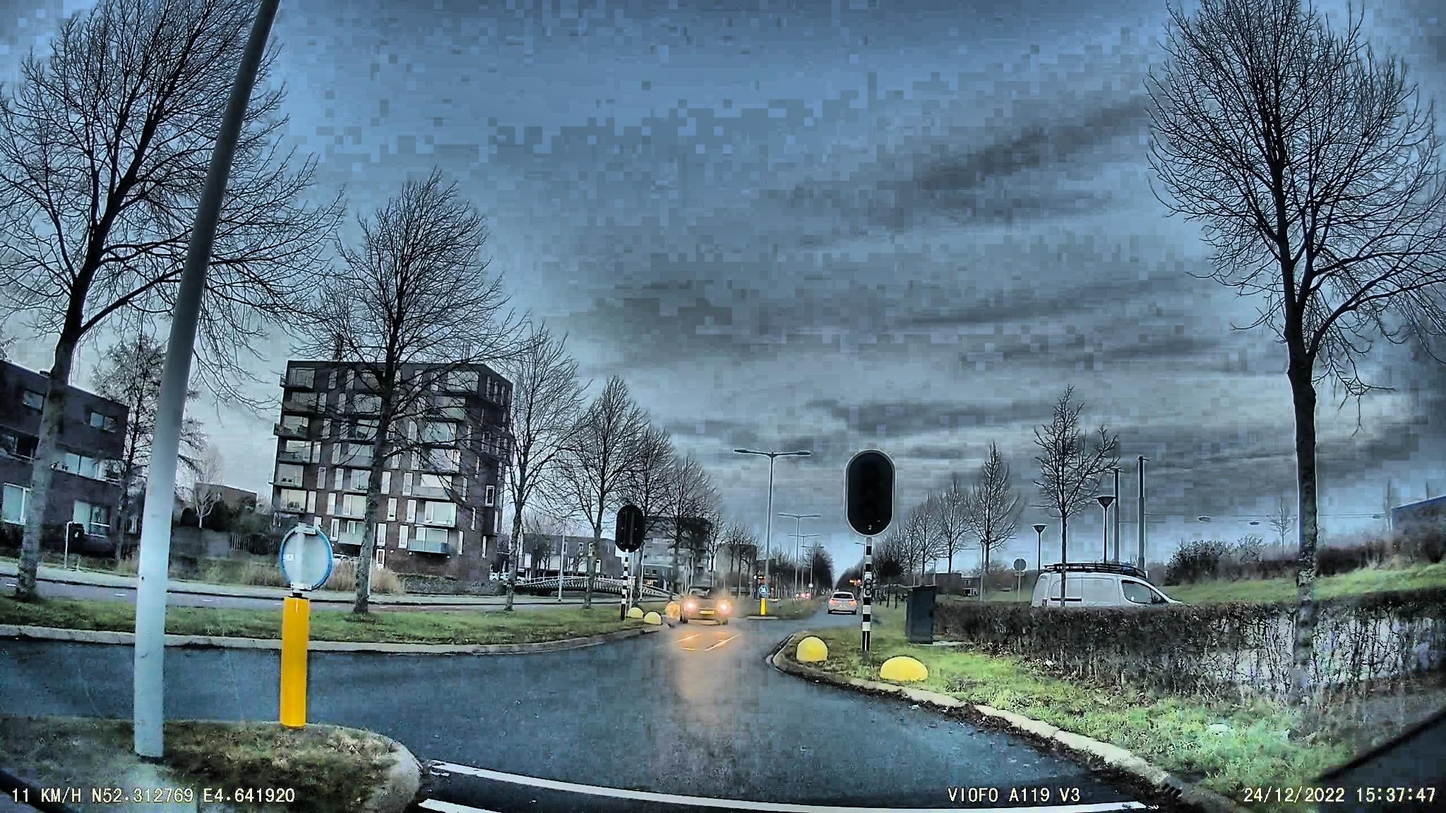Roads: (305, 621, 1243, 813)
